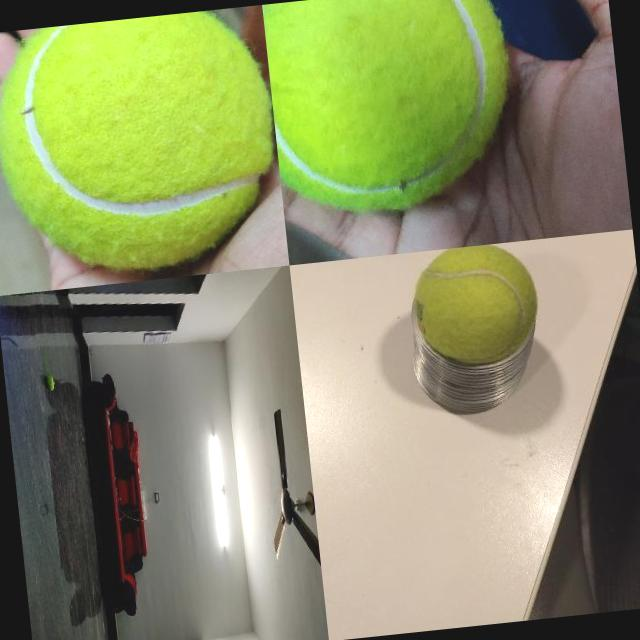Tennis Ball: (0, 4, 287, 280), (263, 0, 521, 221), (408, 240, 544, 370), (45, 374, 55, 391)
